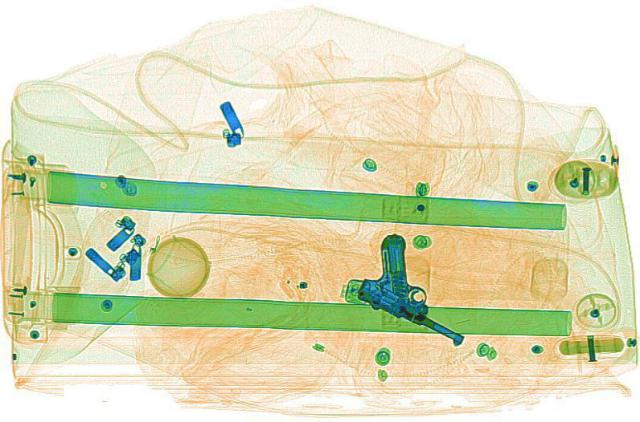Gun: (318, 229, 524, 348)
